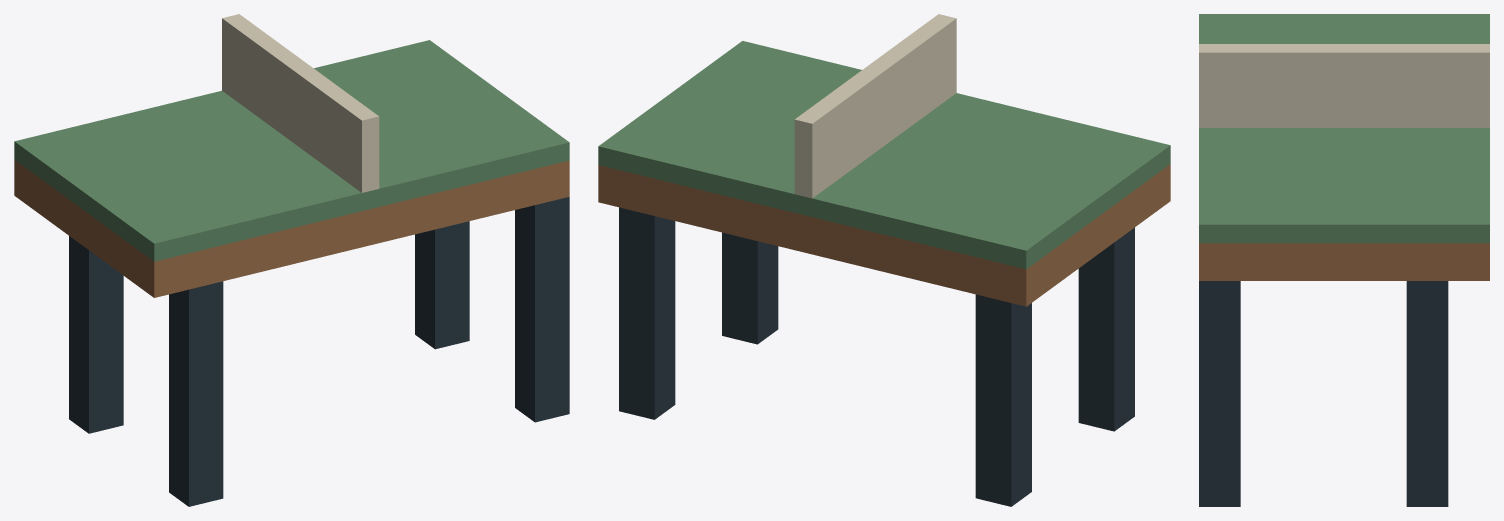
File: sports-11.glb
The picture shows the model from 3 angles, left to right: view 1: azimuth 30°, elevation 25°; view 2: azimuth 150°, elevation 25°; view 3: azimuth 270°, elevation 25°; orthographic projection. The views are drawn at different scales.
Visible parts, largest first — view 1: Table tennis; view 2: Table tennis; view 3: Table tennis.
Part boxes in pixels (x1=…): Table tennis: x1=14, y1=14, x2=569, y2=506; Table tennis: x1=598, y1=14, x2=1170, y2=506; Table tennis: x1=1199, y1=14, x2=1489, y2=506.
Size of the model in its own units: 1.92 by 1.52 by 1.12.
